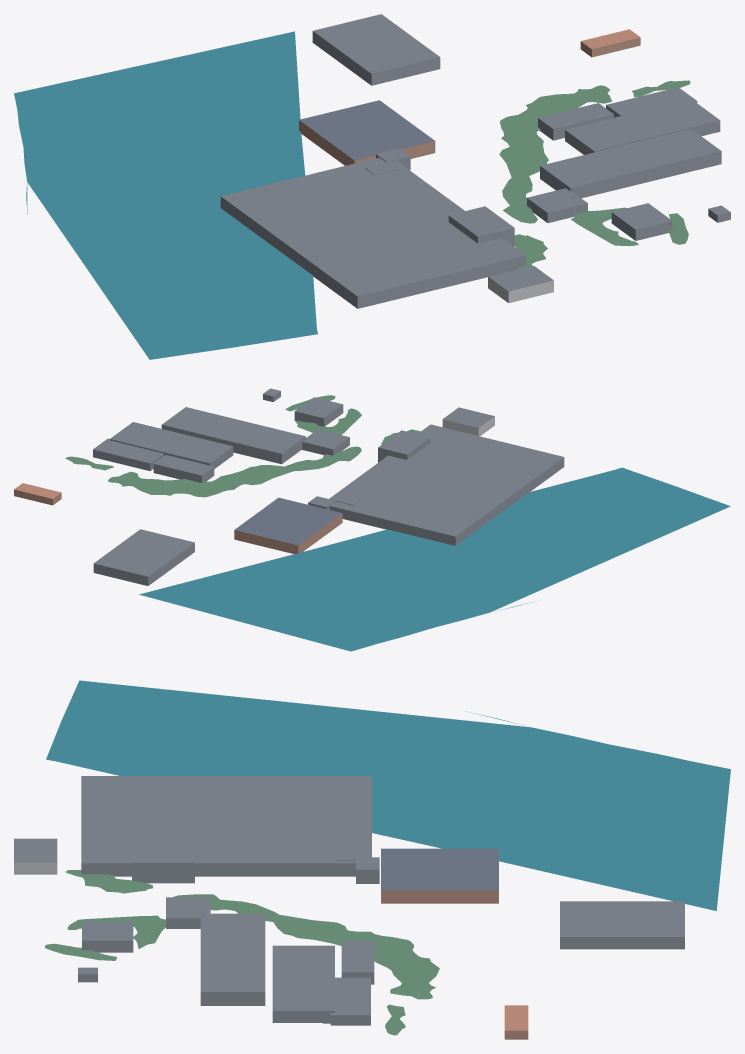
Rendered from tile_0_6_lod1.glb.
The picture shows the model from 3 angles, top to bottom: view 1: azimuth 30°, elevation 25°; view 2: azimuth 150°, elevation 25°; view 3: azimuth 270°, elevation 25°; orthographic projection. The views are drawn at different scales.
Parts seen in each view (by area): view 1: TileRoot; view 2: TileRoot; view 3: TileRoot.
Part boxes in pixels (x1=…): TileRoot: x1=14, y1=14, x2=730, y2=359; TileRoot: x1=14, y1=388, x2=730, y2=651; TileRoot: x1=14, y1=680, x2=730, y2=1039.
Bounding box in the file's own units: 493 × 13.79 × 418.
